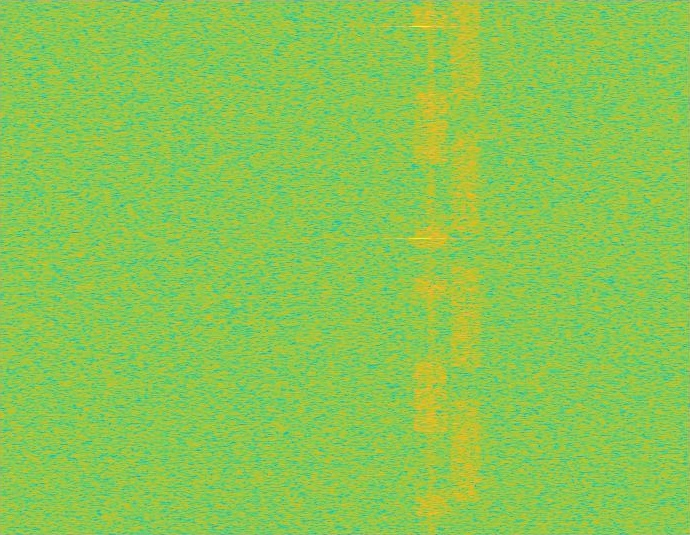5G: (449, 0, 483, 534)
DSSS: (427, 0, 435, 534)
LTE: (414, 0, 449, 534)
Radar: (414, 0, 428, 534)
